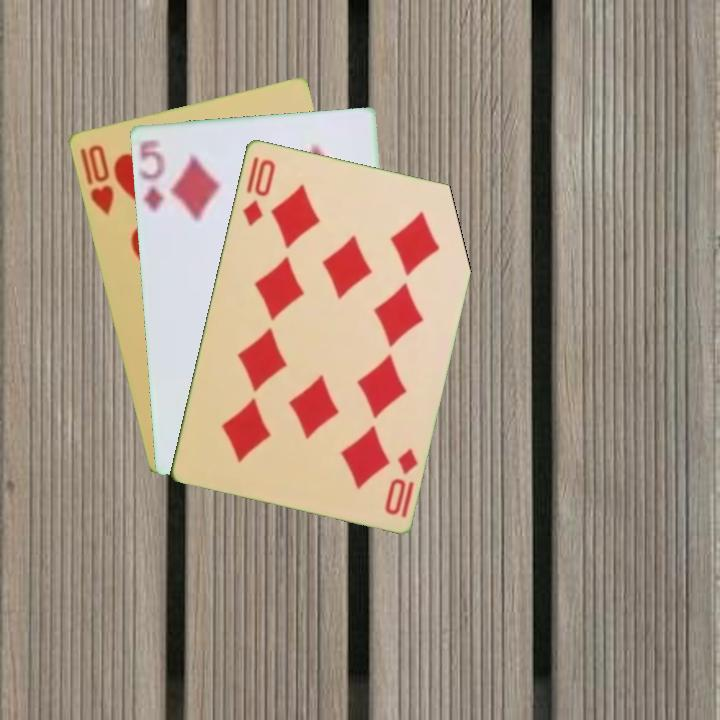10d: (381, 444, 421, 518), (239, 154, 278, 229)
10h: (75, 141, 116, 218)
5d: (135, 135, 167, 215)
